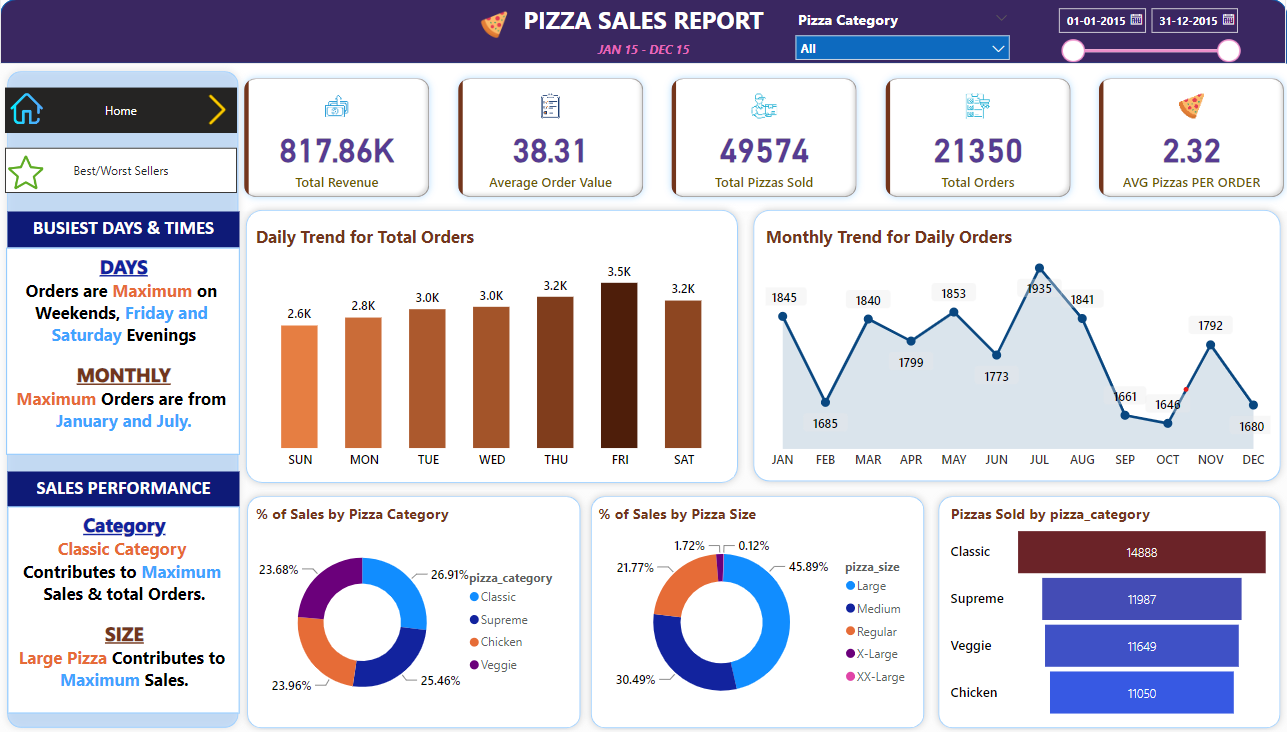

What the dashboard file says about the page in this screenshot:
{"tool":"powerbi","page":{"name":"Home","canvas":[1500,820],"ordinal":0},"visuals":[{"type":"cardVisual","fields":{"Data":["pizza_sales.Total Revenue","pizza_sales.Total Average Order Value","pizza_sales.Total Pizza Sold","pizza_sales.Total Orders","pizza_sales.AVG PIZZAS PER ORDER"]},"box":[289.6,72.4,1193.1,164.3],"z":0},{"type":"shape","box":[33.3,0,1433.3,72.2],"z":1000},{"type":"textbox","box":[595.8,0,308.3,48.6],"z":2000},{"type":"textbox","box":[687.5,41.7,125,30.6],"z":3000},{"type":"image","box":[531.4,8.6,104.3,40],"z":4000},{"type":"shape","box":[300,227.1,564.3,320],"z":5000},{"type":"clusteredColumnChart","title":"Daily Trend for Total Orders","fields":{"Y":["pizza_sales.Total Orders"],"Category":["pizza_sales.Order Day"]},"box":[313.2,252,537.4,279.8],"z":6000},{"type":"shape","box":[864.3,227.1,602.9,318.6],"z":7000},{"type":"areaChart","title":"Monthly Trend for Daily Orders","fields":{"Category":["pizza_sales.Order Month"],"Y":["pizza_sales.Total Orders"]},"box":[881.3,252,572.2,279.8],"z":8000},{"type":"shape","box":[300.7,545.7,387,274.3],"z":9000},{"type":"shape","box":[683.6,545.7,387,274.3],"z":10000},{"type":"shape","box":[1070.6,545.7,396.8,274.3],"z":11000},{"type":"donutChart","title":"% of Sales by Pizza Category","fields":{"Category":["pizza_sales.pizza_category"],"Y":["pizza_sales.Total Revenue"]},"box":[313.2,561.1,356.4,245],"z":12000},{"type":"shape","box":[33.8,72.5,273.8,747.5],"z":13000},{"type":"donutChart","title":"% of Sales by Pizza Size","fields":{"Category":["pizza_sales.pizza_size"],"Y":["pizza_sales.Total Revenue"]},"box":[694.7,561.1,364.8,245],"z":14000},{"type":"funnel","title":"Pizzas Sold by pizza_category","fields":{"Category":["pizza_sales.pizza_category"],"Y":["pizza_sales.Total Pizzas Sold"]},"box":[1087.3,561.1,366.1,245],"z":15000},{"type":"textbox","box":[41.7,236.7,258.3,40],"z":16000},{"type":"textbox","box":[40,276.7,260,230],"z":17000},{"type":"textbox","box":[41.2,526.2,258.8,40],"z":18000},{"type":"textbox","box":[41.4,565.7,258.6,230],"z":19000},{"type":"slicer","fields":{"Values":["pizza_sales.pizza_category"]},"box":[908.6,7.1,258.6,65.7],"z":20000},{"type":"slicer","fields":{"Values":["pizza_sales.order_date"]},"box":[1200,0,222.9,81.4],"z":21000},{"type":"pageNavigator","box":[39.4,99.2,258.2,50.4],"z":22000},{"type":"pageNavigator","box":[39.4,165.3,258.2,50.4],"z":23000},{"type":"image","box":[253.5,99.2,44.1,48.8],"z":24000},{"type":"image","box":[40.4,96.1,45.9,51.5],"z":25000},{"type":"image","box":[37.6,167.1,48.7,51.5],"z":26000}]}

Visuals, with their boxes on the page's 1500x820 design canvas (x1, y1, x2, y2). These are canvas units, not pixel positions in the 1287x732 screenshot, which may show the page scaled, cropped or inside an application window:
cardVisual - pizza_sales.Total Revenue x pizza_sales.Total Average Order Value: [x1=290, y1=72, x2=1483, y2=237]
shape: [x1=33, y1=0, x2=1467, y2=72]
textbox: [x1=596, y1=0, x2=904, y2=49]
textbox: [x1=688, y1=42, x2=812, y2=72]
image: [x1=531, y1=9, x2=636, y2=49]
shape: [x1=300, y1=227, x2=864, y2=547]
"Daily Trend for Total Orders" clusteredColumnChart: [x1=313, y1=252, x2=851, y2=532]
shape: [x1=864, y1=227, x2=1467, y2=546]
"Monthly Trend for Daily Orders" areaChart: [x1=881, y1=252, x2=1454, y2=532]
shape: [x1=301, y1=546, x2=688, y2=820]
shape: [x1=684, y1=546, x2=1071, y2=820]
shape: [x1=1071, y1=546, x2=1467, y2=820]
"% of Sales by Pizza Category" donutChart: [x1=313, y1=561, x2=670, y2=806]
shape: [x1=34, y1=72, x2=308, y2=820]
"% of Sales by Pizza Size" donutChart: [x1=695, y1=561, x2=1060, y2=806]
"Pizzas Sold by pizza_category" funnel: [x1=1087, y1=561, x2=1453, y2=806]
textbox: [x1=42, y1=237, x2=300, y2=277]
textbox: [x1=40, y1=277, x2=300, y2=507]
textbox: [x1=41, y1=526, x2=300, y2=566]
textbox: [x1=41, y1=566, x2=300, y2=796]
slicer - pizza_sales.pizza_category: [x1=909, y1=7, x2=1167, y2=73]
slicer - pizza_sales.order_date: [x1=1200, y1=0, x2=1423, y2=81]
pageNavigator: [x1=39, y1=99, x2=298, y2=150]
pageNavigator: [x1=39, y1=165, x2=298, y2=216]
image: [x1=254, y1=99, x2=298, y2=148]
image: [x1=40, y1=96, x2=86, y2=148]
image: [x1=38, y1=167, x2=86, y2=219]
